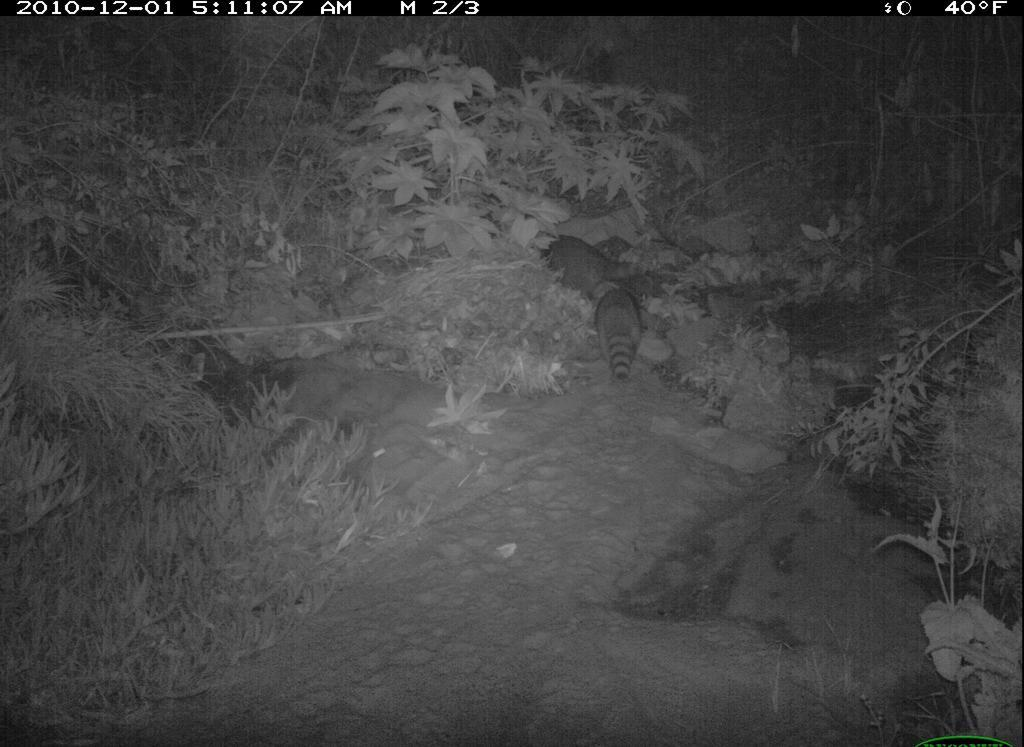raccoon: (548, 237, 664, 393)
